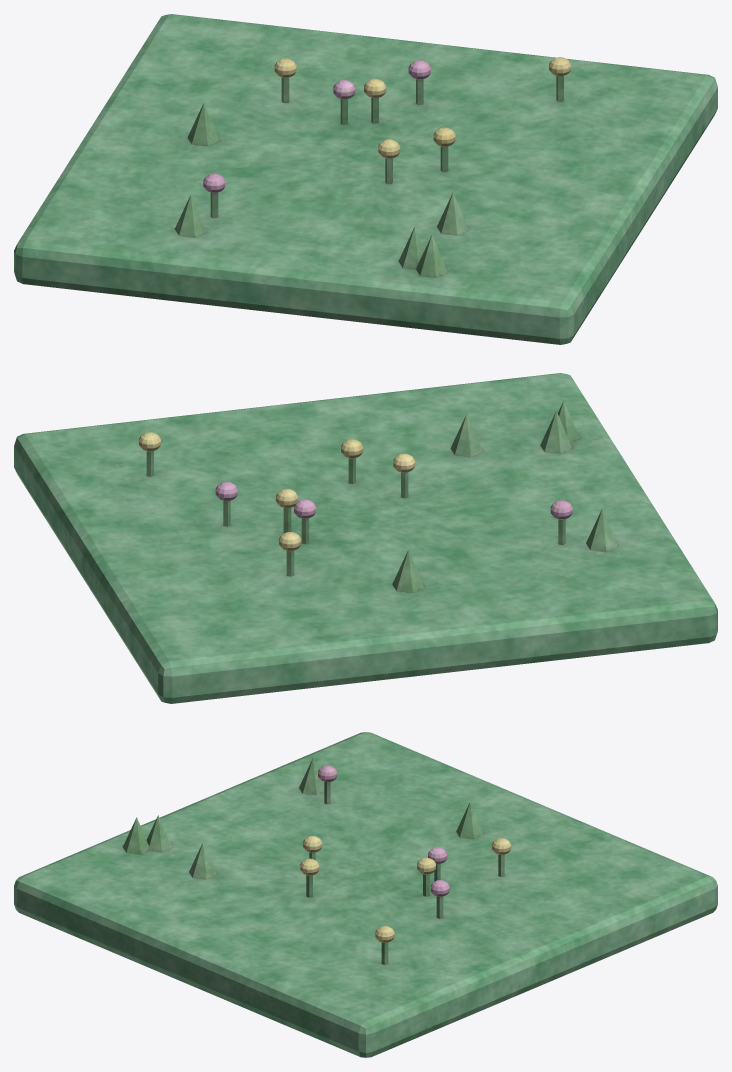
File: yllien_plains.glb
3 renders of one model, top to bottom at view 1: azimuth 30°, elevation 25°; view 2: azimuth 150°, elevation 25°; view 3: azimuth 270°, elevation 25°, orthographic. The views are drawn at different scales.
Visible parts, largest first — view 1: dilek; view 2: dilek; view 3: dilek.
Boxes of the visible parts, x1=… form: dilek: x1=14, y1=14, x2=717, y2=344; dilek: x1=14, y1=373, x2=717, y2=703; dilek: x1=14, y1=732, x2=717, y2=1057.
Bounding box in the file's own units: 2.42 × 0.278 × 2.42.
1 material, 1 textured.
